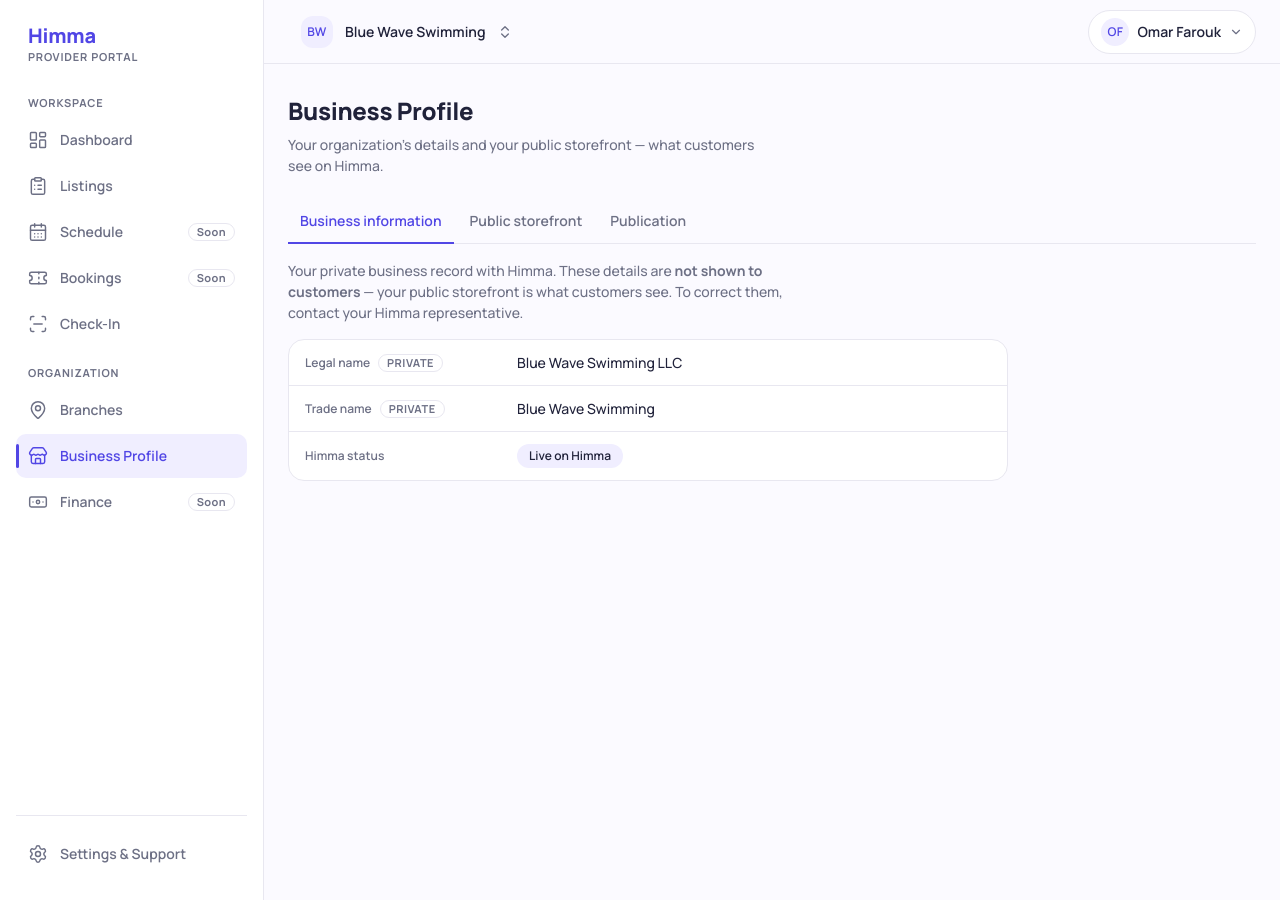
business profile page (W2-4) › an Organization Manager can edit; the commercial seat stays owner-only
The width and height of the screenshot is (1280, 900).
Expected: the heading "Business Profile" is shown, [288,94,473,127]
Click the tab "Public storefront". click: [526, 222]
box: [458,200,594,244]
(page scrolled)
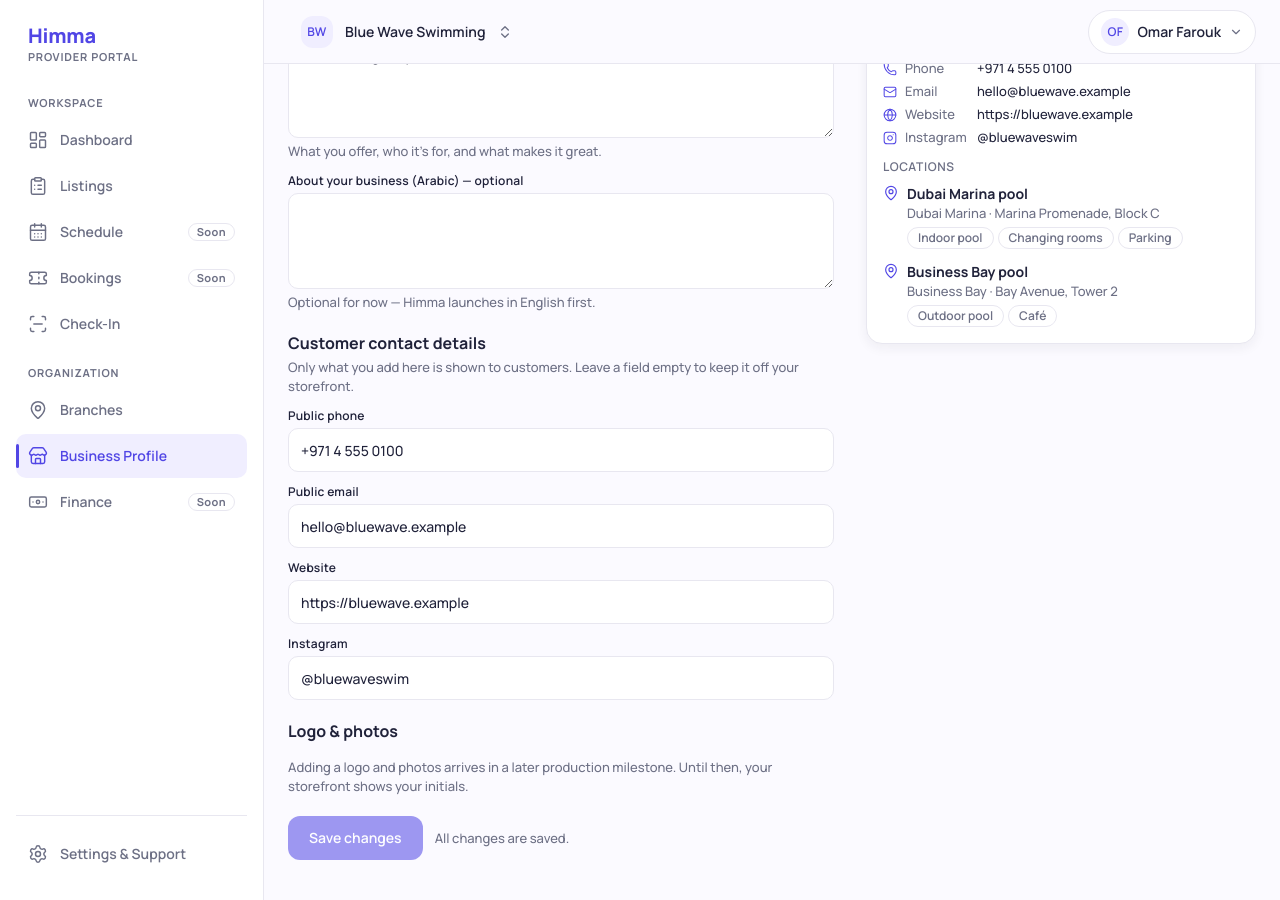
Now the button "Save changes" is shown, box [288,816,423,860]
